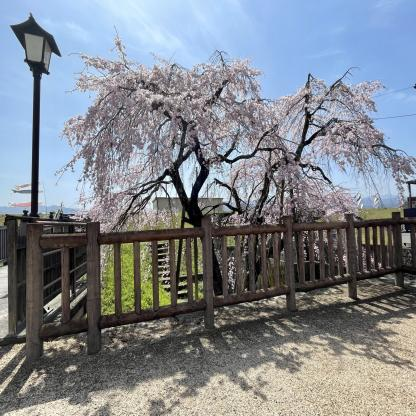ShidareZakura: (53, 22, 416, 293)
